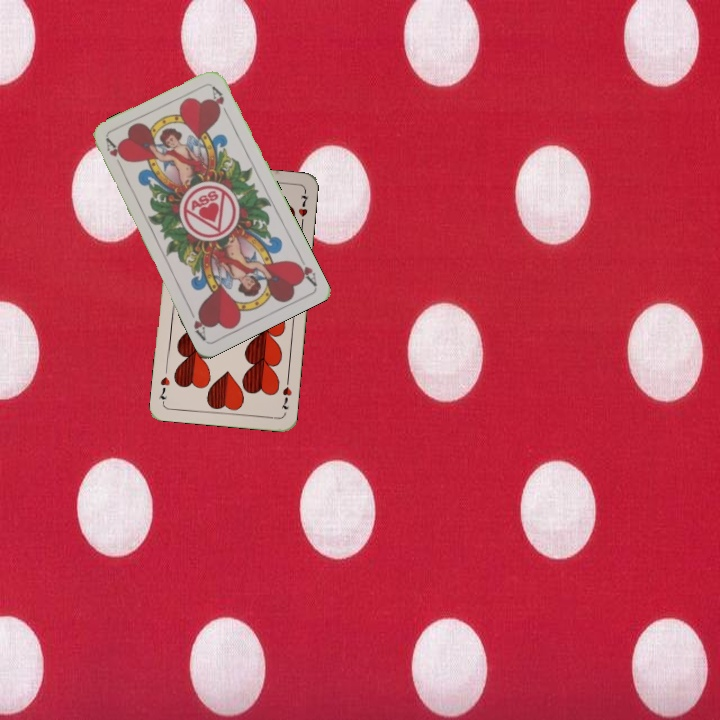H7: (278, 375, 294, 412)
HA: (290, 250, 319, 288), (102, 135, 126, 173)
